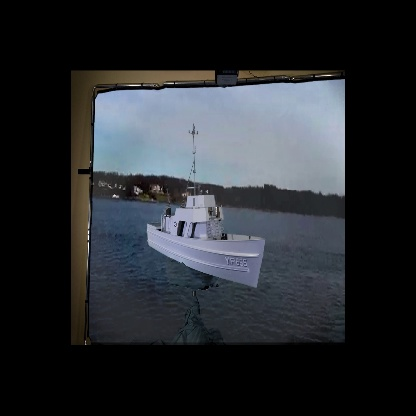YP689: (145, 120, 266, 289)
